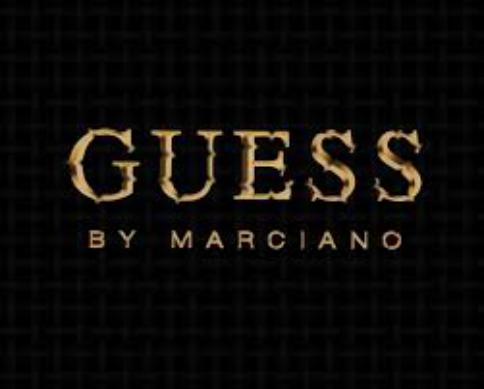GUESS: (65, 116, 426, 212)
